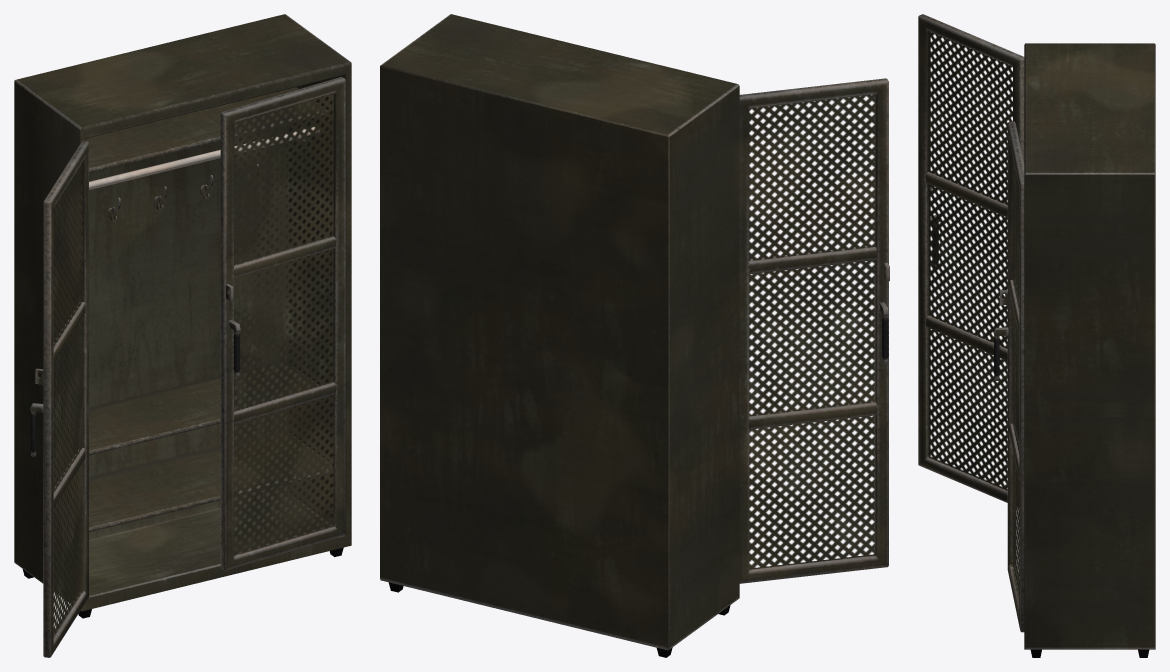
The model's file is locker_equipment.glb.
3 views of the same model, side by side, from view 1: azimuth 30°, elevation 25°; view 2: azimuth 150°, elevation 25°; view 3: azimuth 270°, elevation 25° (orthographic). The views are drawn at different scales.
Visible parts, largest first — view 1: locker_Equip_01, locker_Equip_01_R_Door, locker_Equip_01_L_Door; view 2: locker_Equip_01, locker_Equip_01_L_Door; view 3: locker_Equip_01, locker_Equip_01_L_Door, locker_Equip_01_R_Door.
Boxes of the visible parts, x1,y1,x2,y2 form: locker_Equip_01: (14, 14, 351, 618); locker_Equip_01_R_Door: (220, 77, 345, 570); locker_Equip_01_L_Door: (30, 141, 88, 657); locker_Equip_01: (380, 14, 739, 657); locker_Equip_01_L_Door: (739, 78, 889, 583); locker_Equip_01: (1024, 43, 1155, 657); locker_Equip_01_L_Door: (918, 14, 1024, 506); locker_Equip_01_R_Door: (993, 121, 1024, 632).
Size of the model in its own units: 1.59 by 2.05 by 0.9033.
2 materials, 2 textured.
